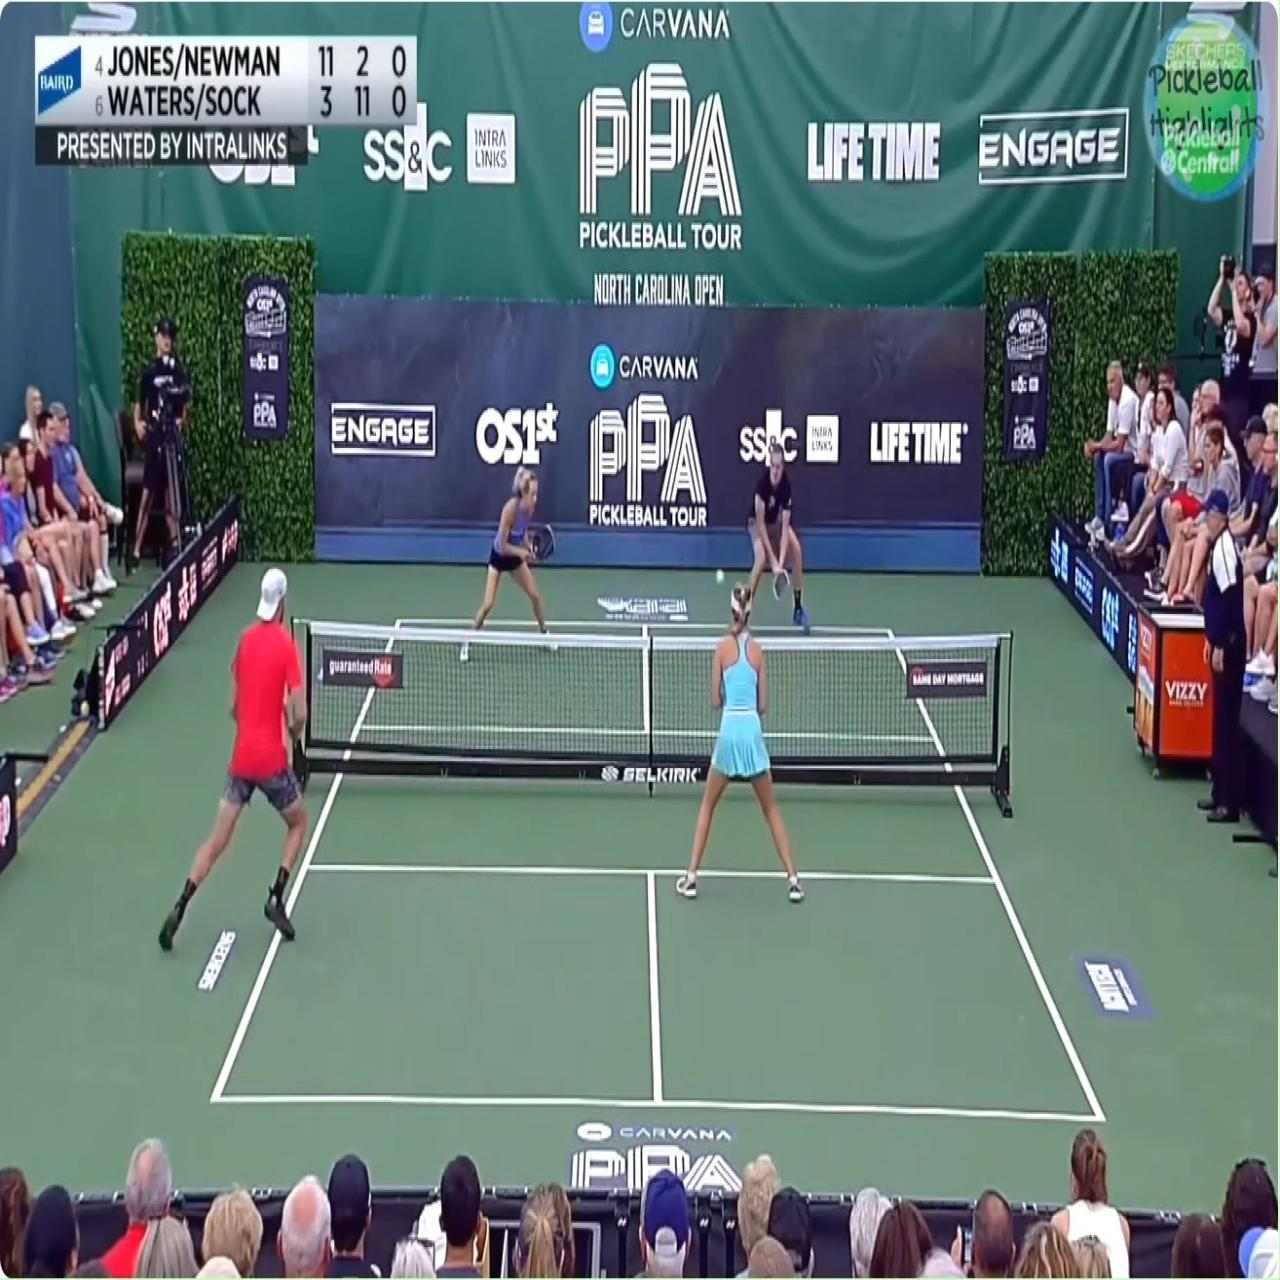pickleball: (715, 568, 724, 584)
